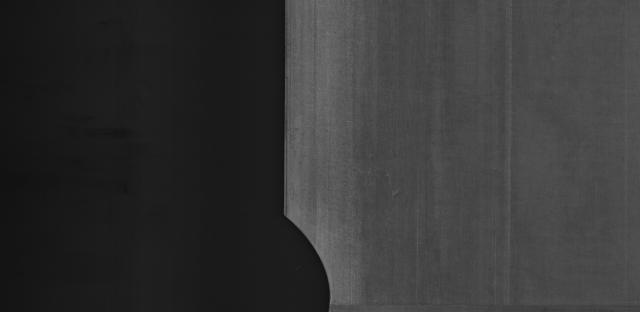crescent_gap: (269, 190, 346, 312)
